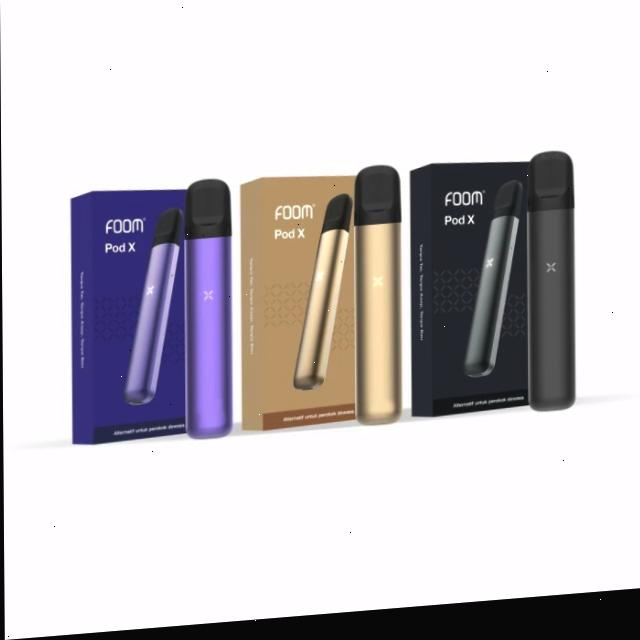vape: (182, 181, 234, 445), (527, 157, 577, 422), (354, 170, 404, 434), (460, 187, 526, 386), (120, 211, 183, 410), (290, 197, 353, 396)
